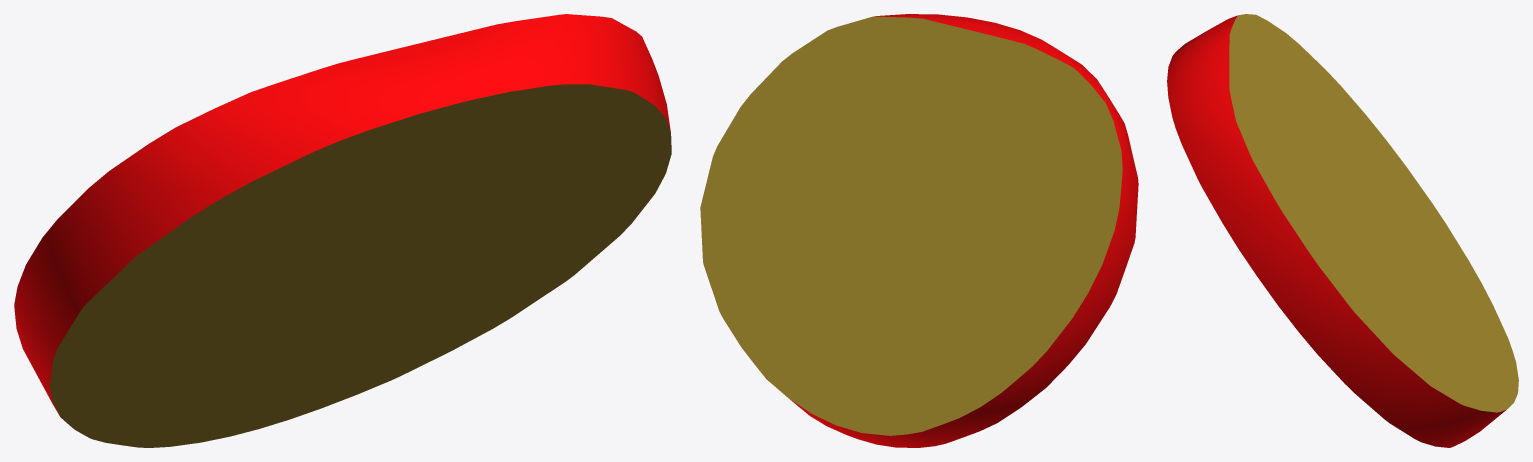
The model's file is apple03.fbx.
The picture shows the model from 3 angles, left to right: view 1: azimuth 30°, elevation 25°; view 2: azimuth 150°, elevation 25°; view 3: azimuth 270°, elevation 25°; orthographic projection. The views are drawn at different scales.
Visible parts, largest first — view 1: apple03; view 2: apple03; view 3: apple03.
Part boxes in pixels (left/top/right/bottom): apple03: left=14, top=14, right=671, bottom=447; apple03: left=700, top=14, right=1138, bottom=447; apple03: left=1167, top=14, right=1518, bottom=447.
Bounding box in the file's own units: 0.1912 × 0.1525 × 0.1342.
